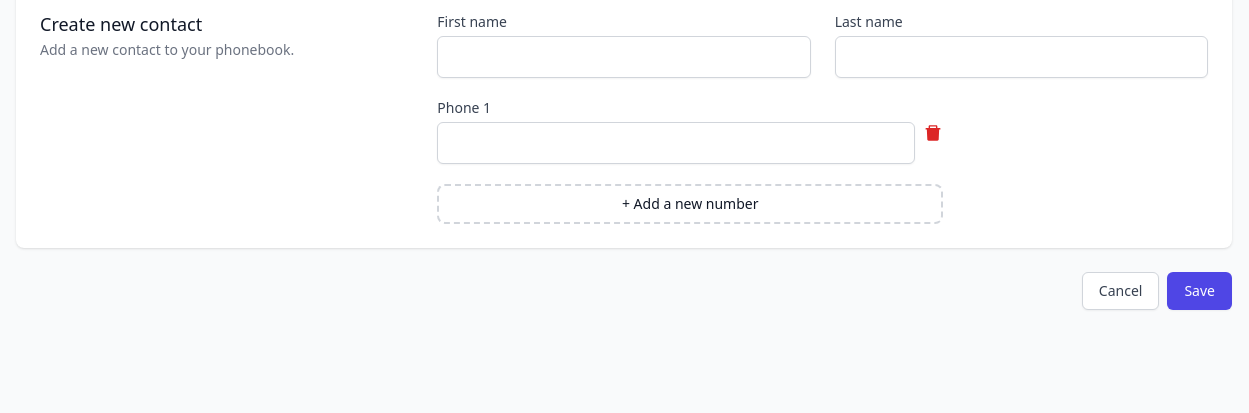
it: Add Contact › successfully adds a new phone number input
Click the button "+ Add a new number" at x=690, y=204, box [437,184,943,224]
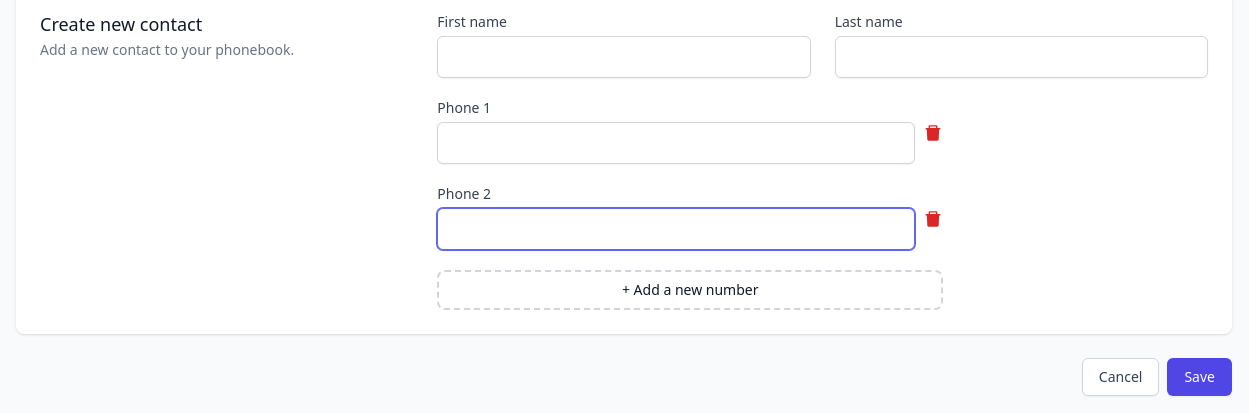
Expected: the field labelled "Phone 2" is shown, [437,208,915,250]
